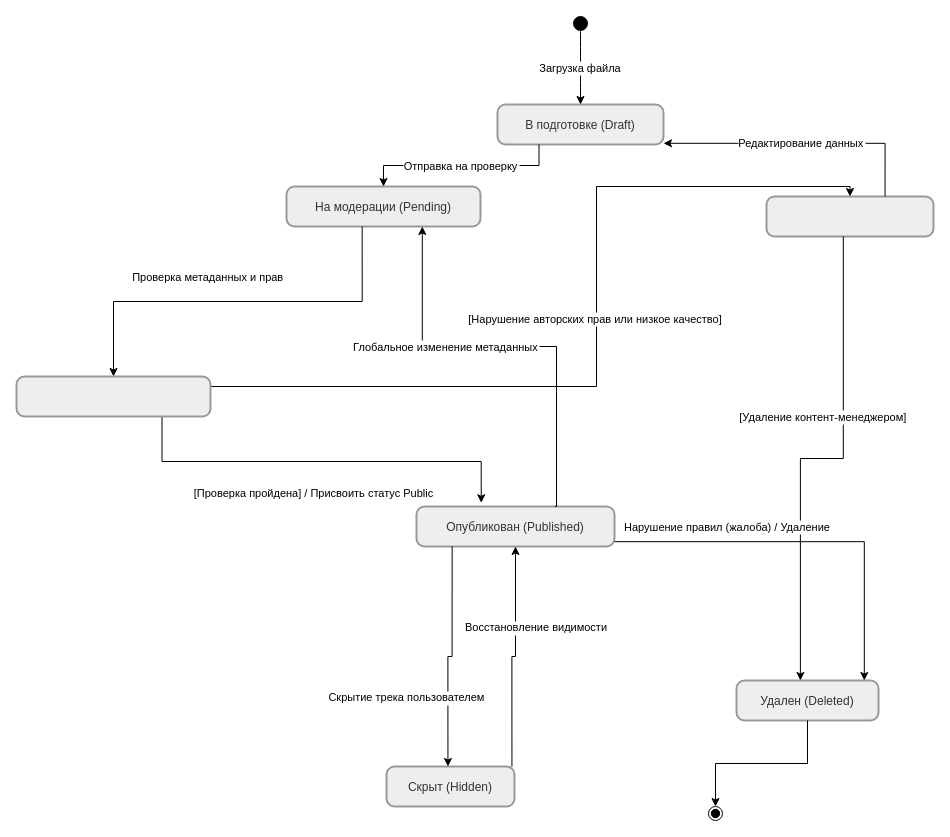
Image size: 950x837. Some labels were removed from this diagram. The centre of each missing label's shape, as x and y in pixels:
"Отклонен (Rejected)" belongs at point (849, 216).
"Проверка на права и качество" belongs at point (113, 396).
